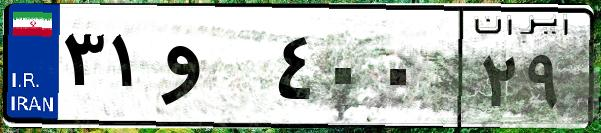0: (385, 28, 445, 110), (330, 28, 385, 110)
1: (110, 28, 158, 98)
2: (475, 38, 525, 113)
3: (57, 26, 110, 100)
4: (270, 28, 330, 110)
9: (525, 38, 570, 115)
و: (158, 20, 270, 120)
